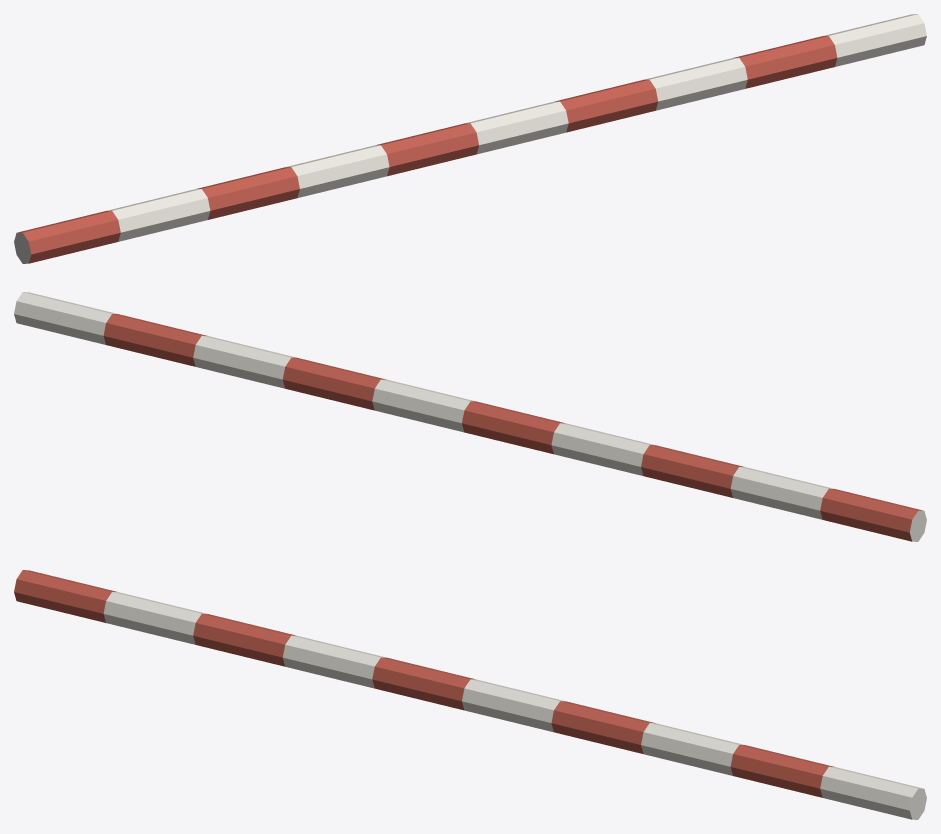
The model's file is jump_pole.glb.
3 renders of one model, top to bottom at view 1: azimuth 30°, elevation 25°; view 2: azimuth 150°, elevation 25°; view 3: azimuth 330°, elevation 25°, orthographic.
Visible parts, largest first — view 1: jump_pole; view 2: jump_pole; view 3: jump_pole.
Part boxes in pixels (x1=…): jump_pole: x1=14, y1=14, x2=926, y2=263; jump_pole: x1=14, y1=292, x2=926, y2=541; jump_pole: x1=14, y1=570, x2=926, y2=819.
Bounding box in the file's own units: 3 × 0.1 × 0.1.
